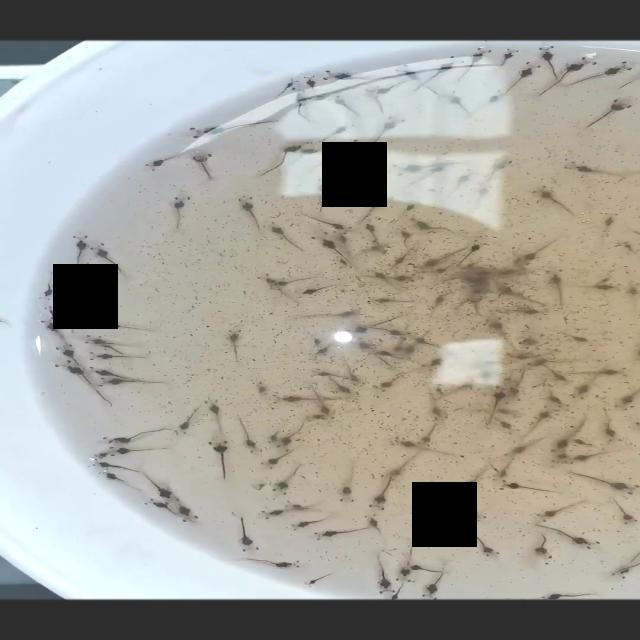shrimp2: (193, 116, 283, 140), (395, 437, 469, 460), (560, 156, 630, 180), (372, 363, 426, 393), (392, 158, 465, 180), (586, 96, 636, 128), (535, 180, 575, 220), (228, 514, 266, 556), (534, 498, 595, 524), (366, 114, 408, 150), (520, 234, 561, 268), (90, 243, 132, 276), (450, 488, 488, 524), (90, 316, 165, 334), (503, 61, 541, 96), (166, 190, 197, 232), (233, 191, 264, 233), (483, 153, 524, 184), (204, 437, 232, 482), (542, 266, 572, 308), (458, 47, 492, 84), (482, 315, 519, 349), (494, 479, 568, 496), (296, 306, 364, 324), (266, 222, 306, 252), (172, 402, 204, 439), (237, 415, 264, 458), (270, 461, 303, 496), (361, 191, 395, 224), (297, 280, 348, 302), (220, 324, 248, 364), (336, 458, 360, 504), (323, 66, 384, 84), (368, 474, 398, 509), (465, 530, 500, 560), (190, 147, 222, 179), (460, 460, 490, 494), (443, 88, 476, 118), (596, 403, 620, 443), (598, 210, 626, 243), (61, 298, 84, 337), (71, 229, 92, 270), (142, 152, 185, 172), (204, 399, 230, 432), (312, 526, 368, 541), (390, 201, 420, 228), (331, 94, 363, 118), (315, 174, 333, 215), (531, 531, 551, 567), (364, 513, 391, 539), (362, 295, 414, 308), (429, 290, 454, 316), (260, 450, 294, 469), (85, 352, 149, 362), (573, 366, 633, 376), (289, 517, 329, 531)
